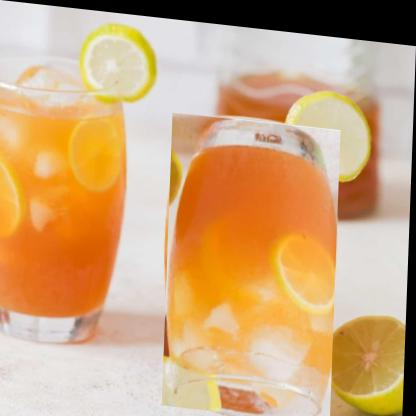non_milk_based_beverage: (164, 107, 343, 415), (0, 52, 128, 349)
